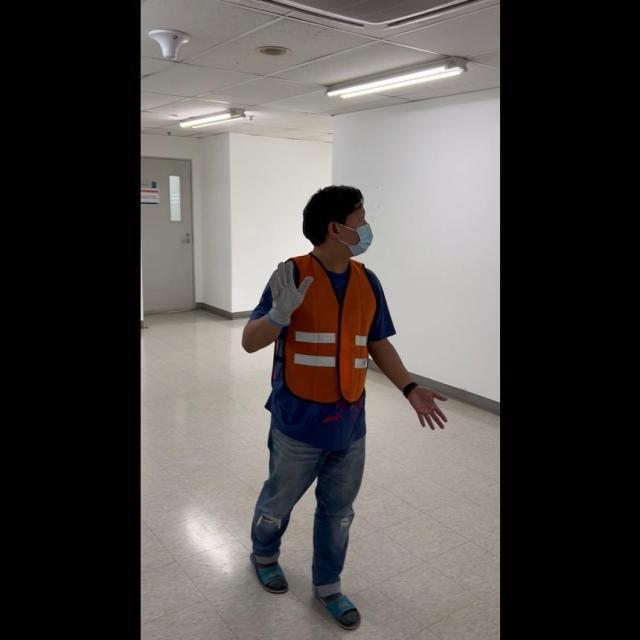bare_hand: (401, 383, 449, 431)
gloved_hand: (263, 258, 312, 325)
